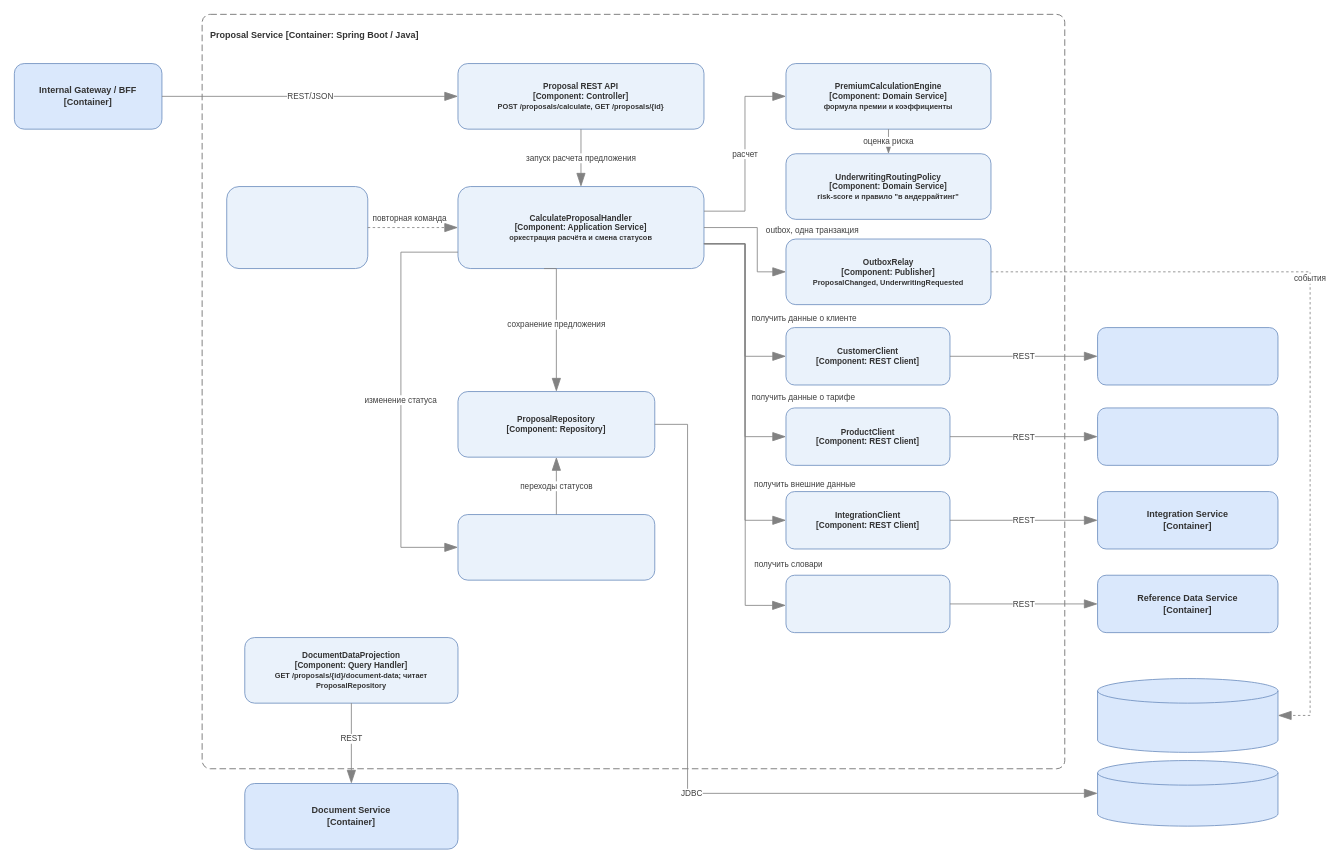
The diagram is 1341 pixels wide and 863 high, and some of its shapes have lost their labels. The box of each missing label's shape, as (x1, y1, x2, y2) in pixels:
Customer Service [Container]: (1097, 327, 1278, 385)
Message Broker [Container: Kafka]: (1097, 678, 1278, 752)
Product Service [Container]: (1097, 407, 1278, 465)
Proposal DB [Container: PostgreSQL]: (1097, 760, 1278, 826)
ProposalStateMachine [Component: Domain] CALCULATED, PENDING_UNDERWRITING, ...: (457, 514, 655, 580)
ReferenceDataClient [Component: REST + Cache]: (785, 574, 950, 633)
RetryScheduler [Component: Scheduler] повтор WAITING_EXTERNAL_DATA: (226, 186, 368, 269)
